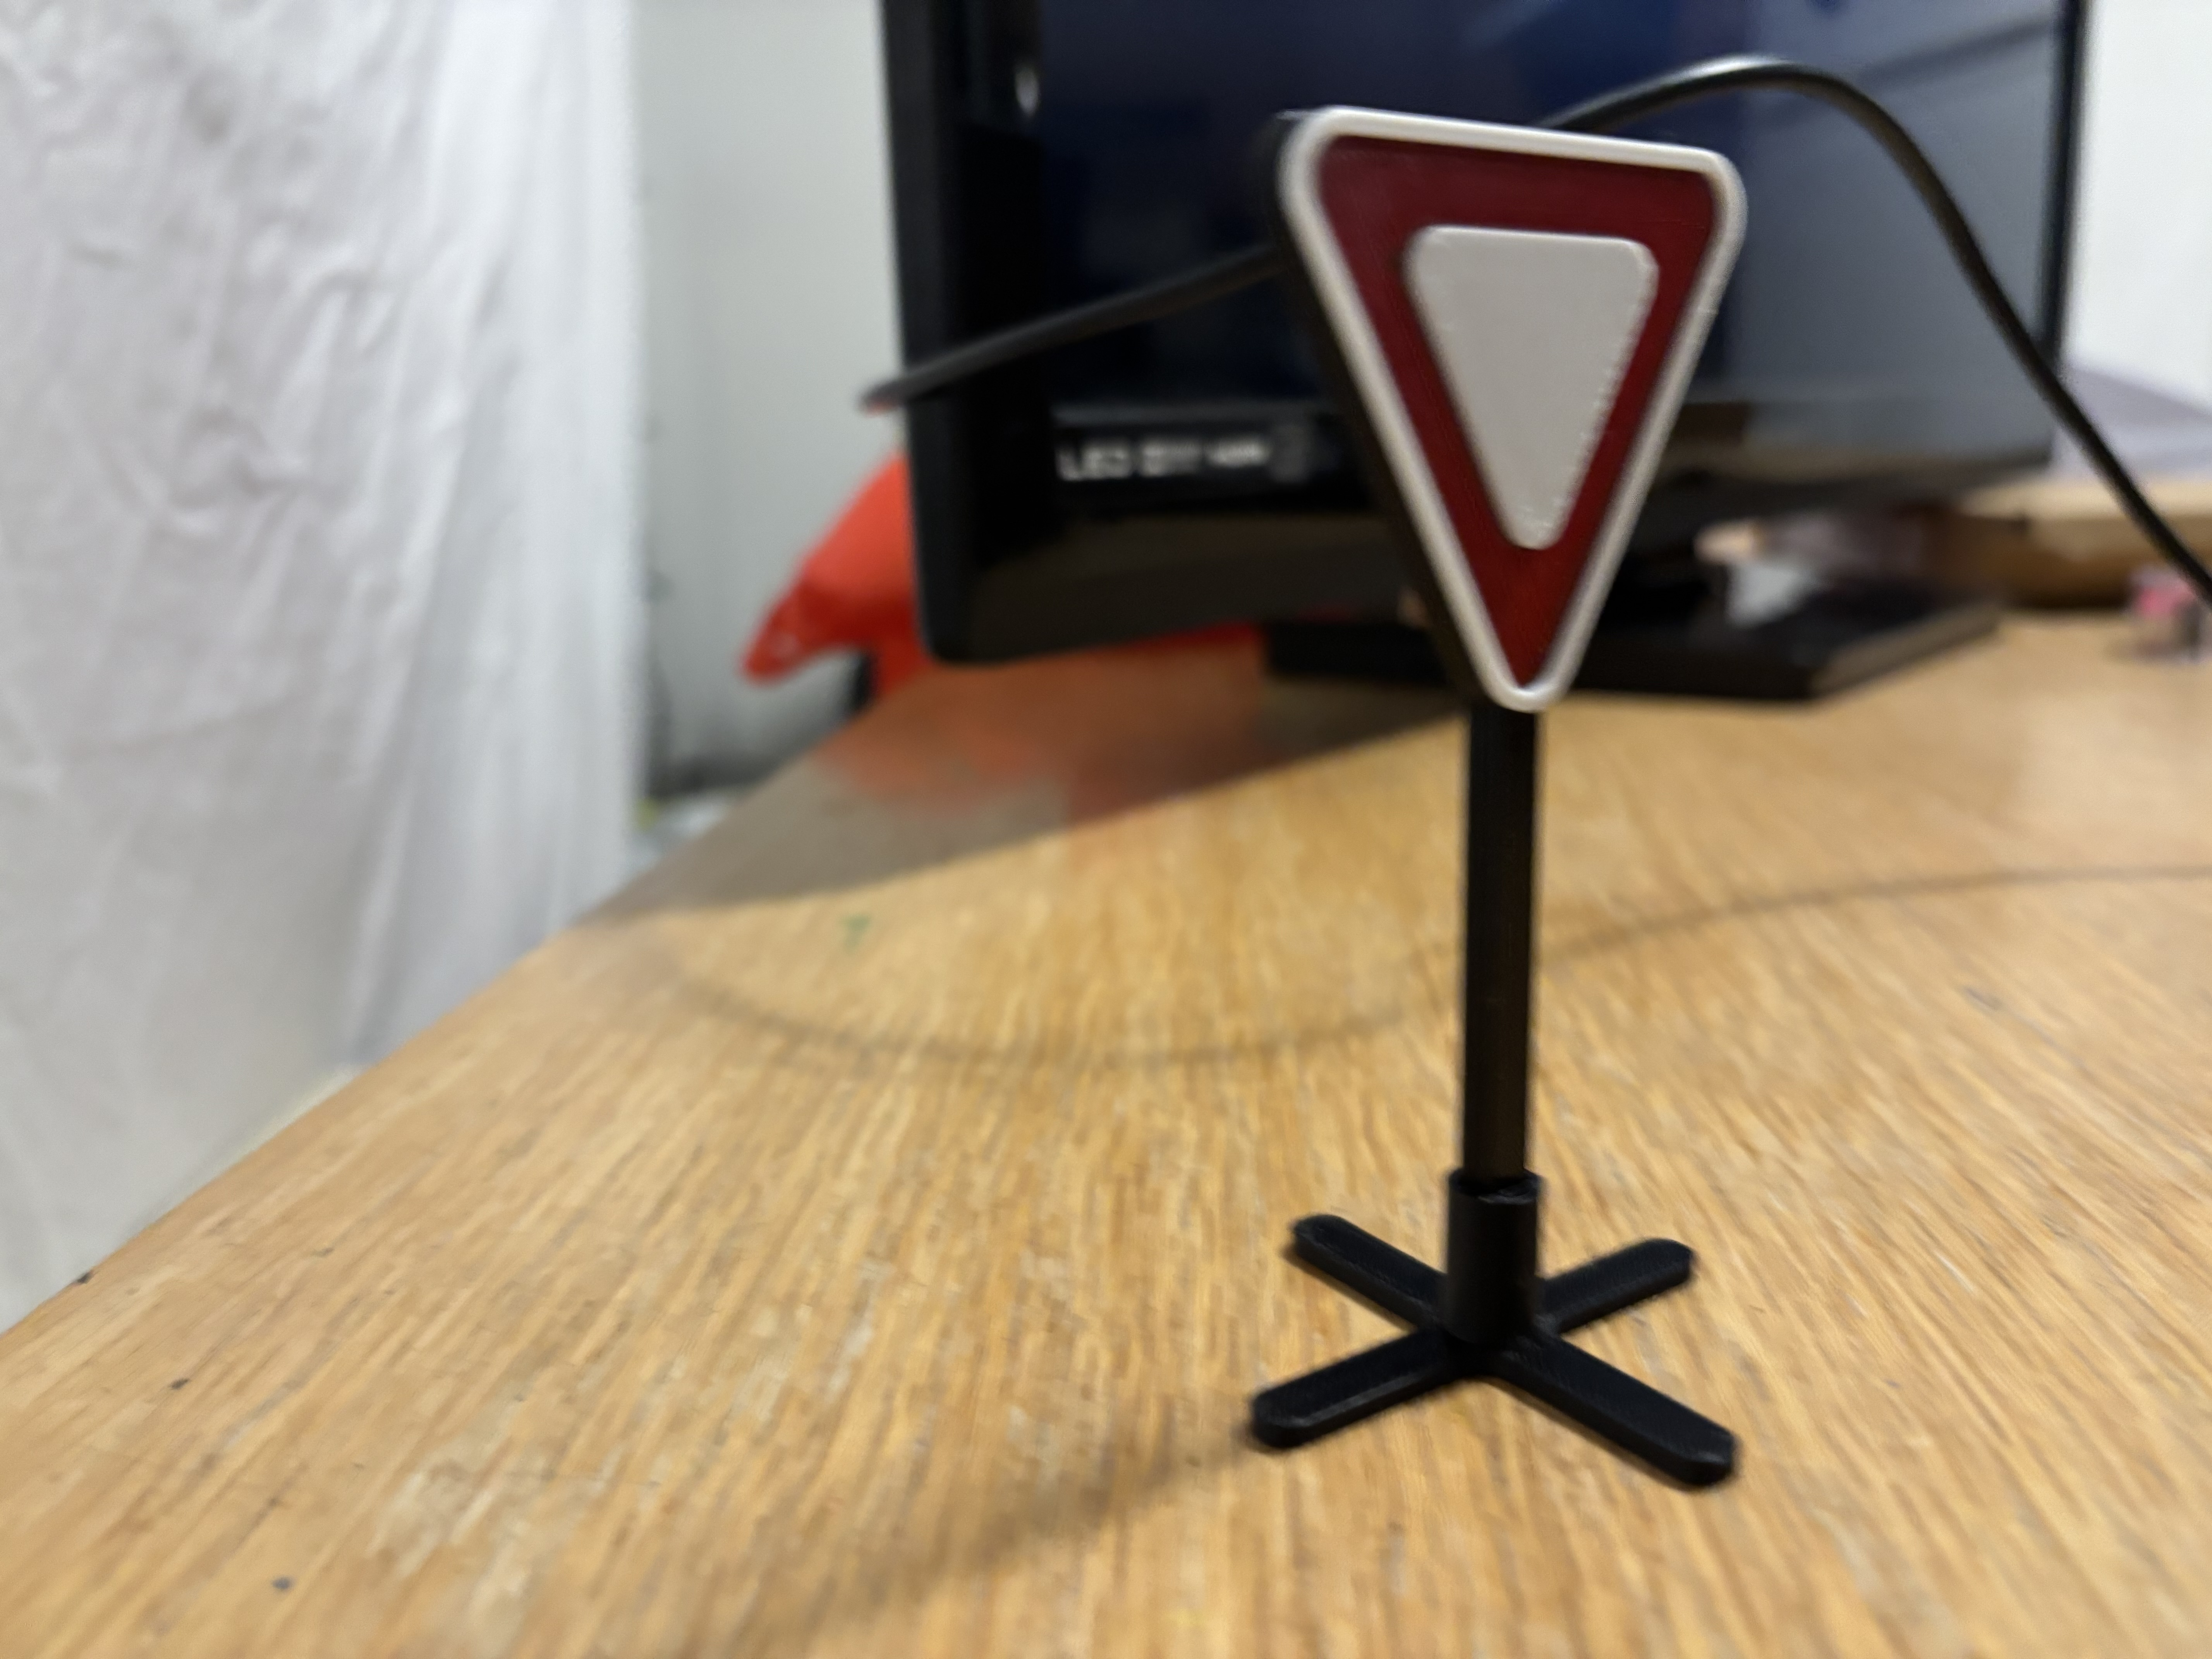sign_yield: (1261, 92, 1771, 730)
